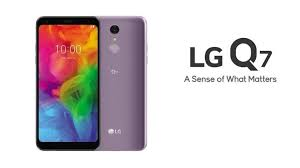lg: (34, 13, 103, 153)
